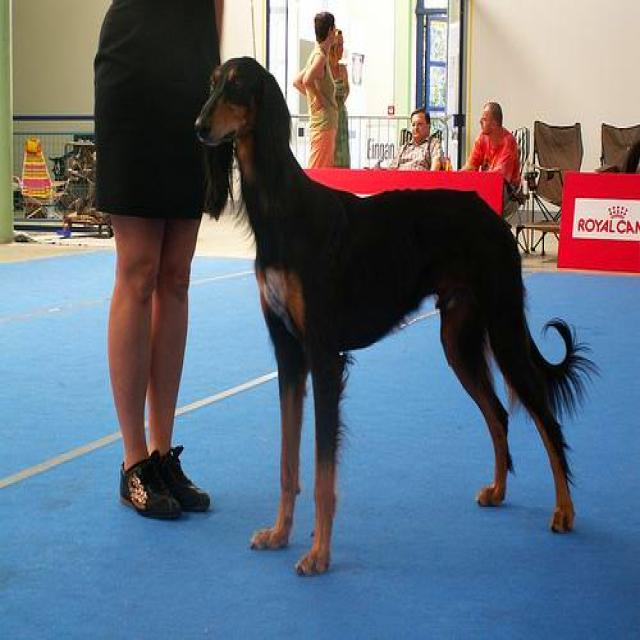saluki: (194, 58, 586, 582)
